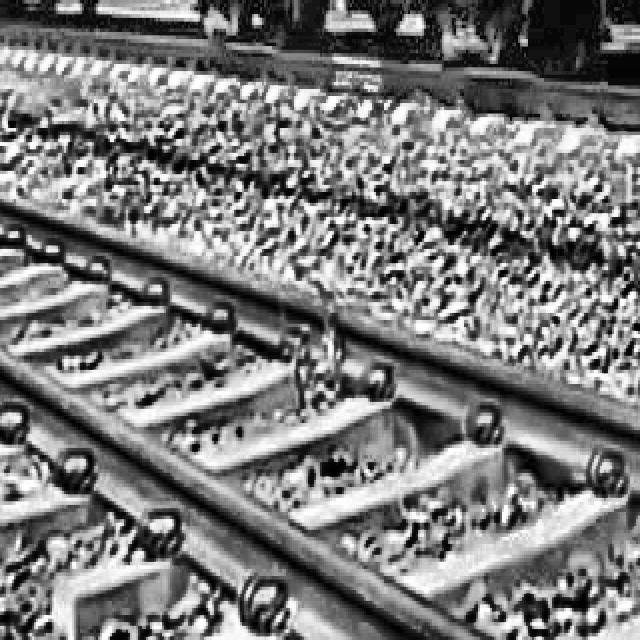Gerbong: (270, 0, 640, 235), (0, 0, 340, 85)
